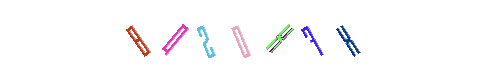7: (239, 0, 319, 80)
8: (122, 0, 202, 80)
O: (207, 0, 287, 80)
Q: (153, 0, 233, 80)
X: (212, 0, 292, 80), (292, 0, 372, 80)
Z: (171, 0, 251, 80)
